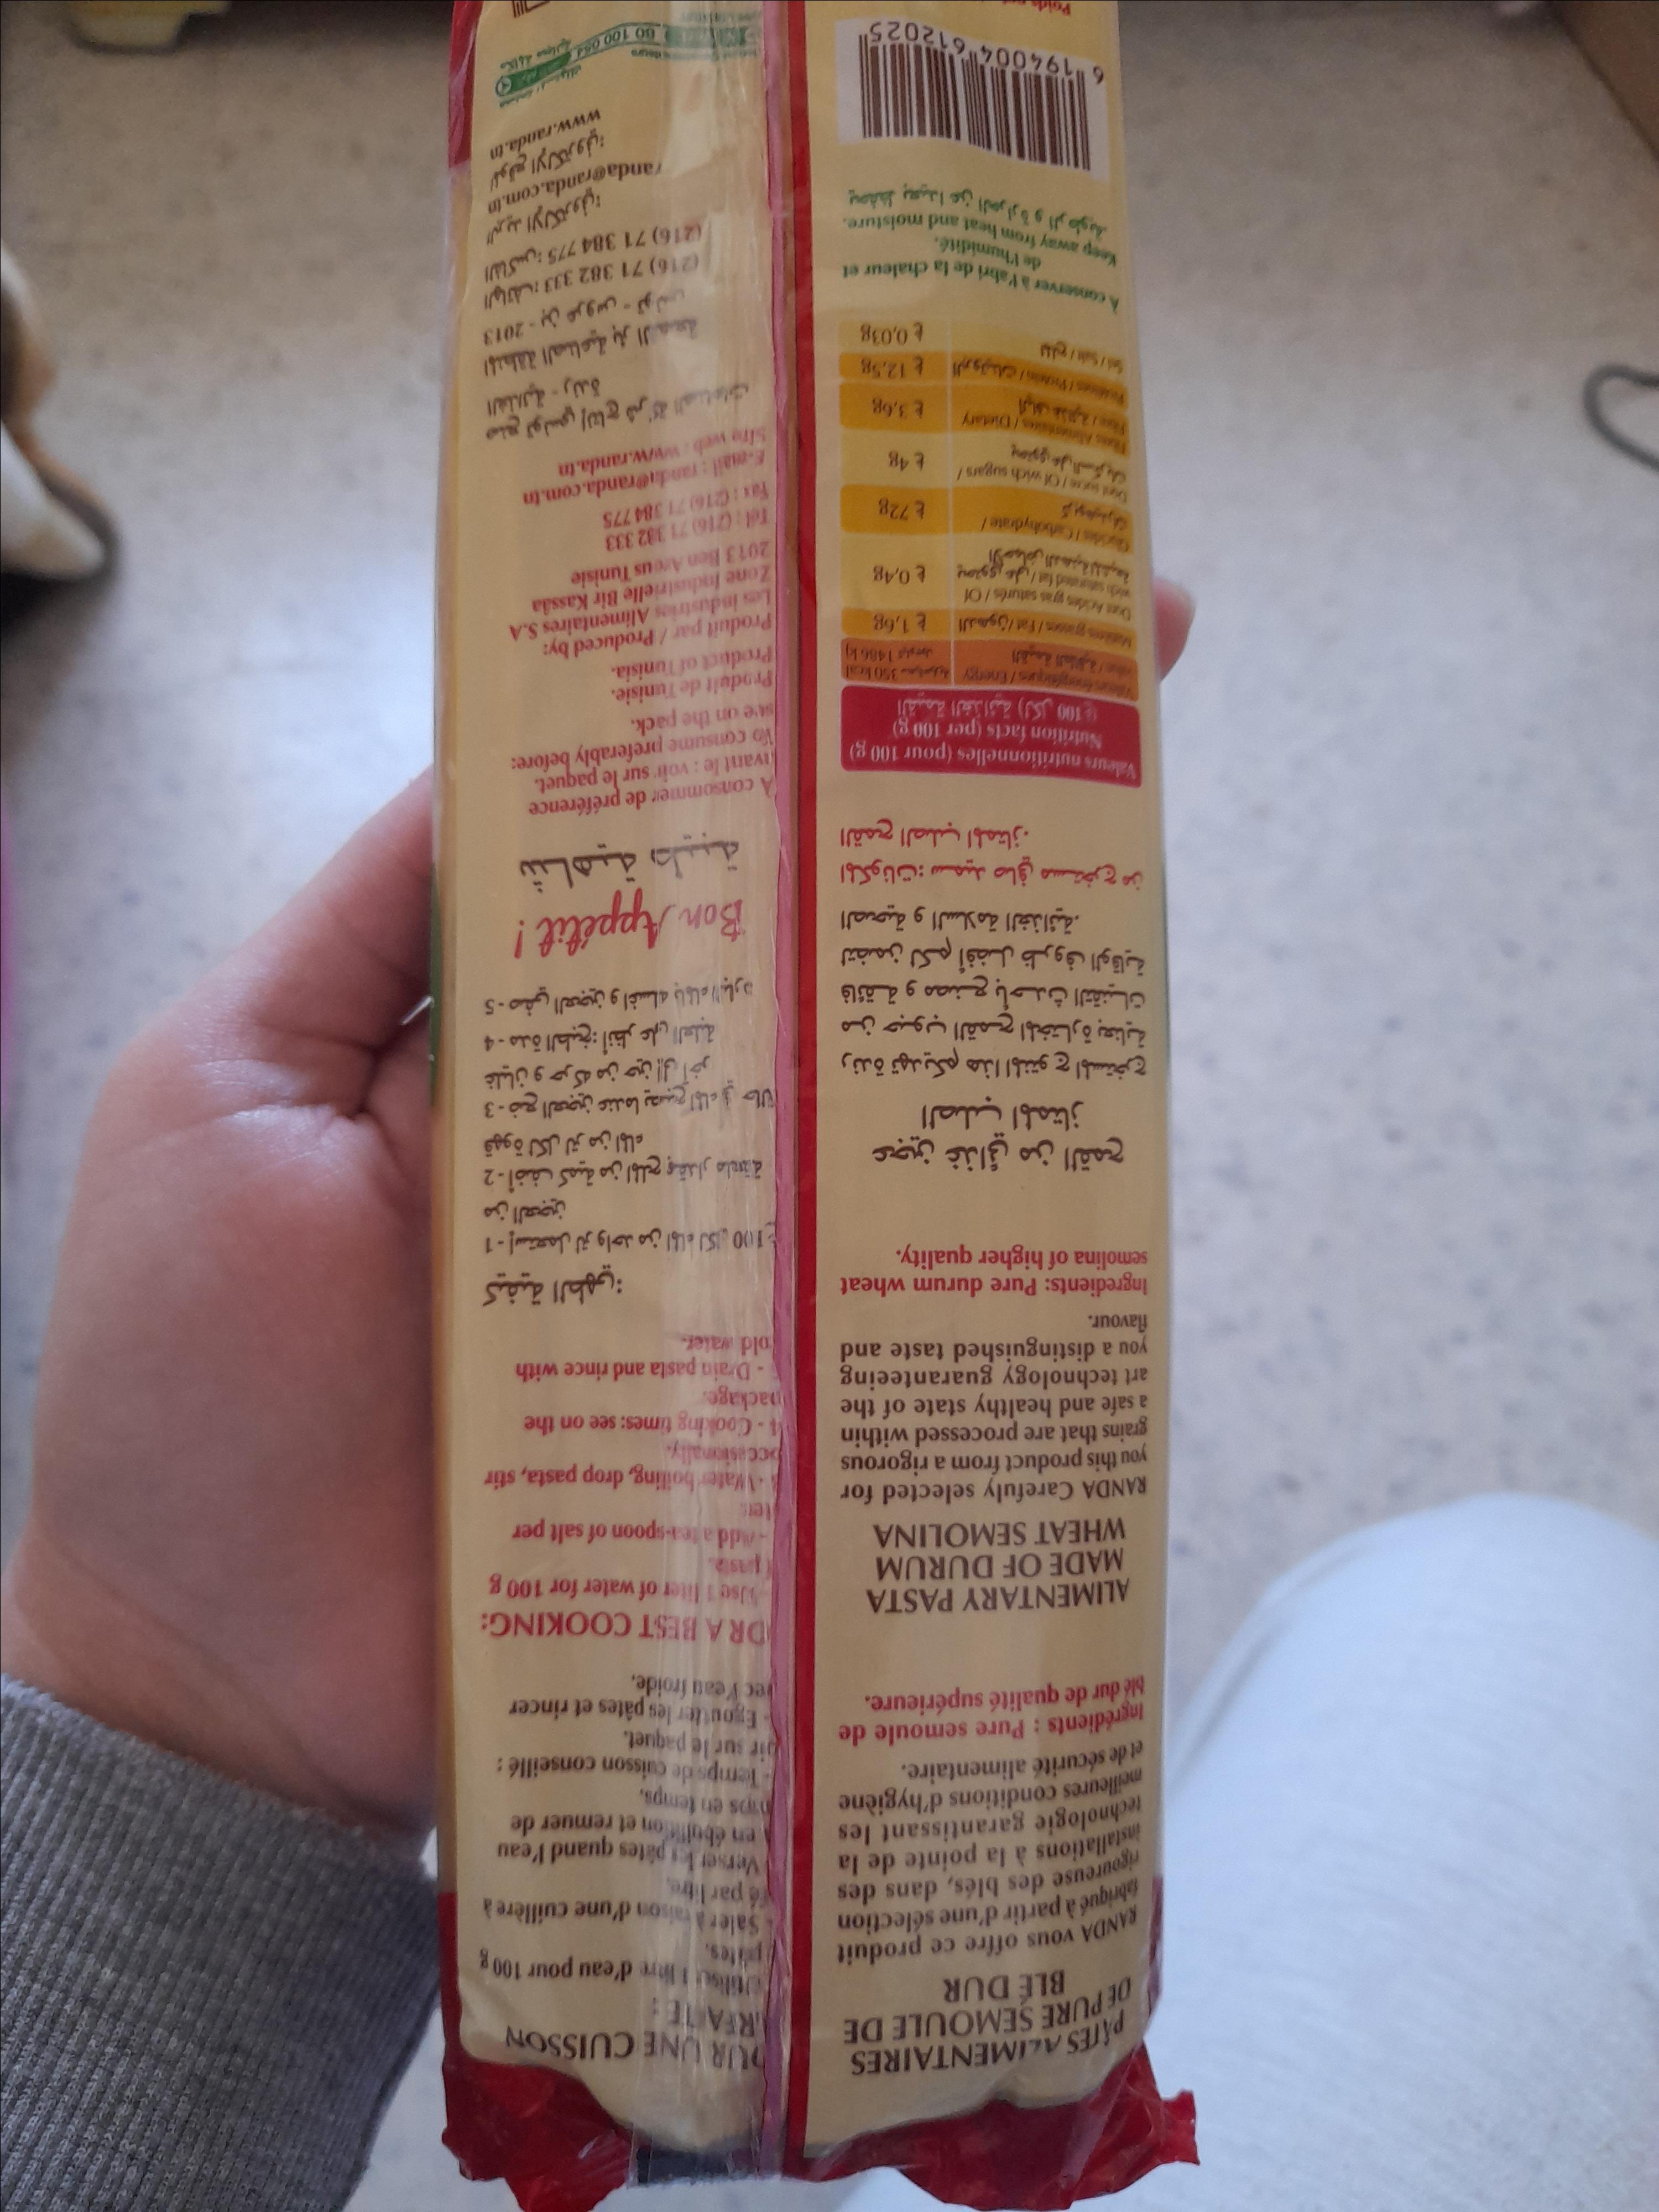Spaghetti: (235, 0, 586, 850)
